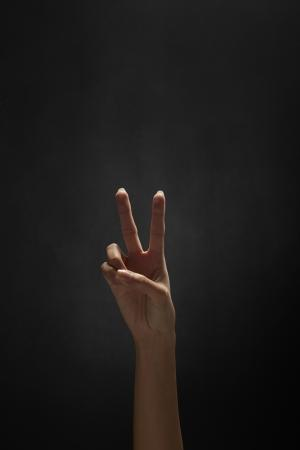peace_sign: (97, 181, 194, 344)
